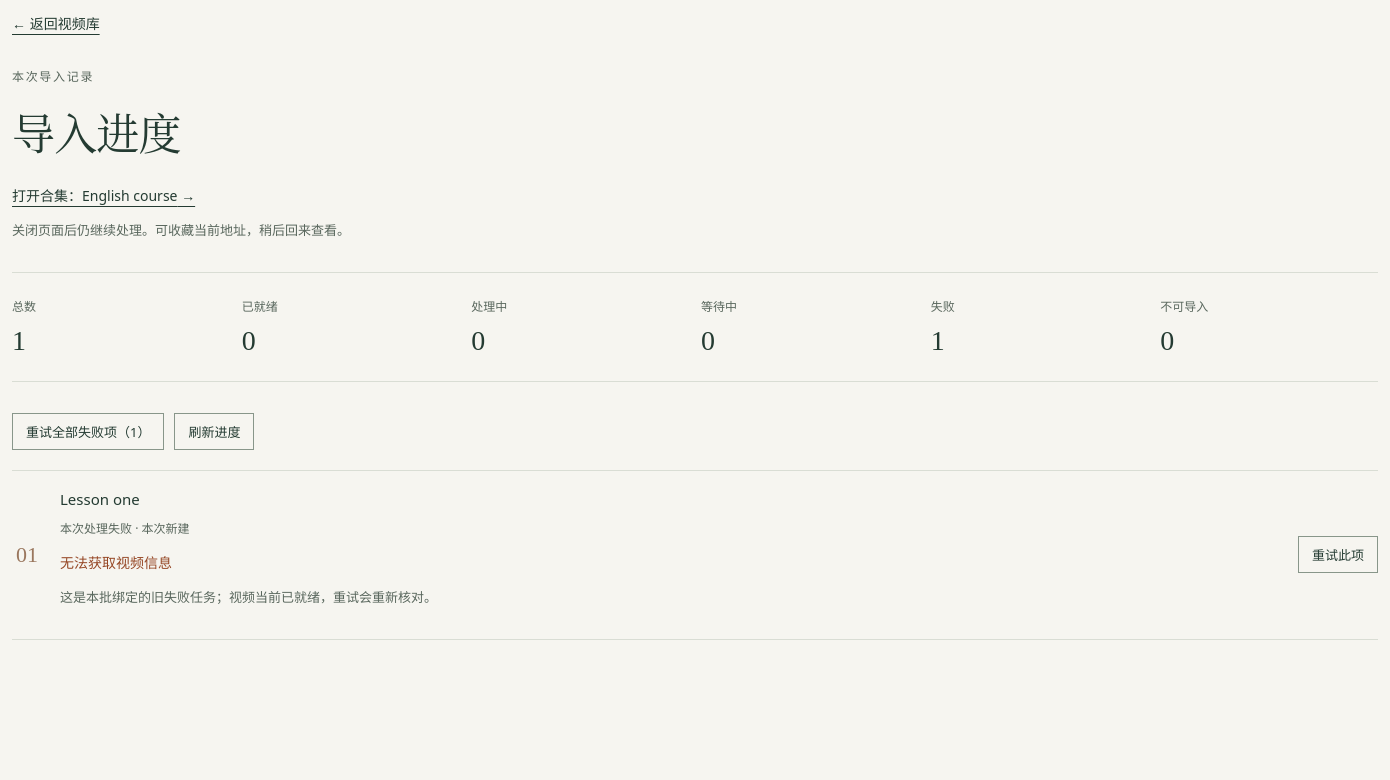
Scenario: shows historical failures separately from ready video state and reports per-item retry rejection
This screenshot has width=1390, height=780.
What coordinates should you click on to do the following:
click the button "重试全部失败项（1）"
I would click on:
 (88, 432)
Its box is [12,413,164,450].
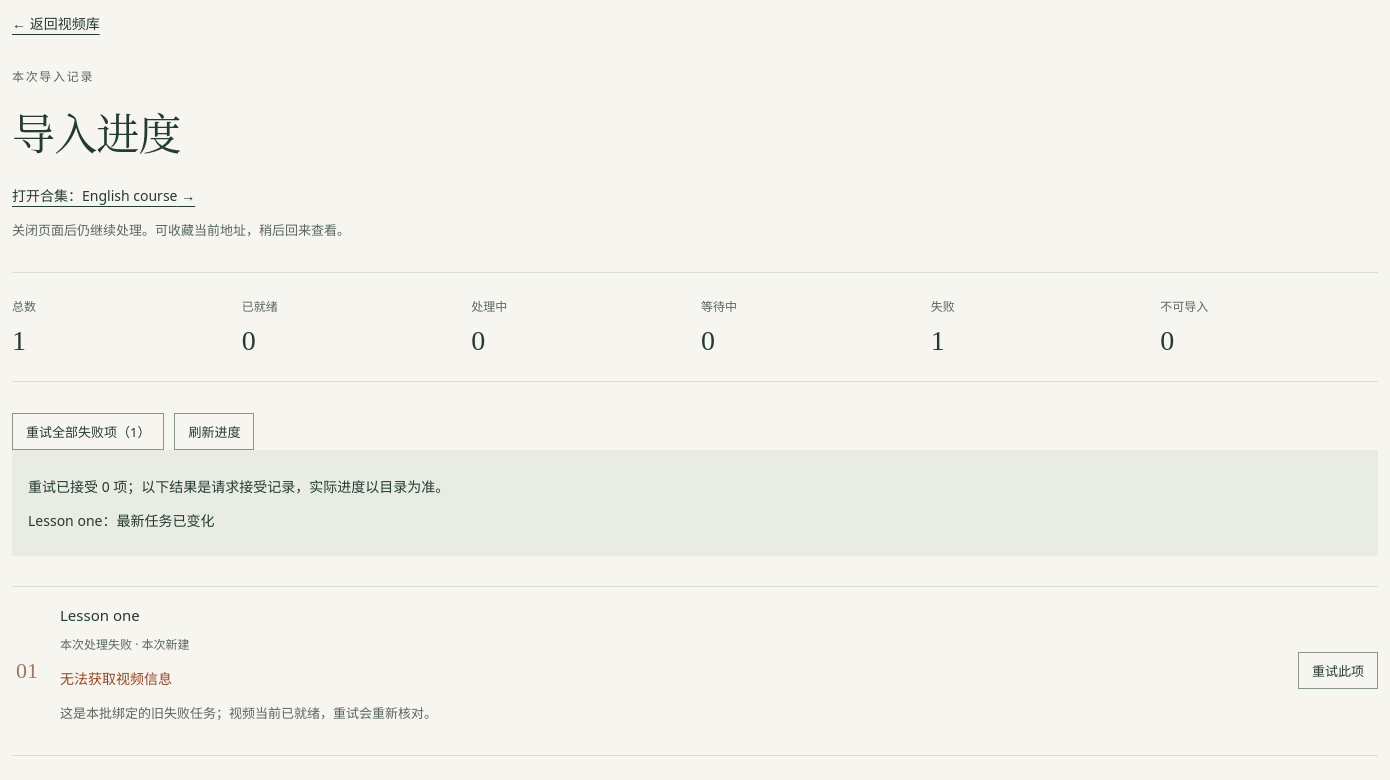
Result: the text "最新任务已变化" is shown at [116,511,214,530]
